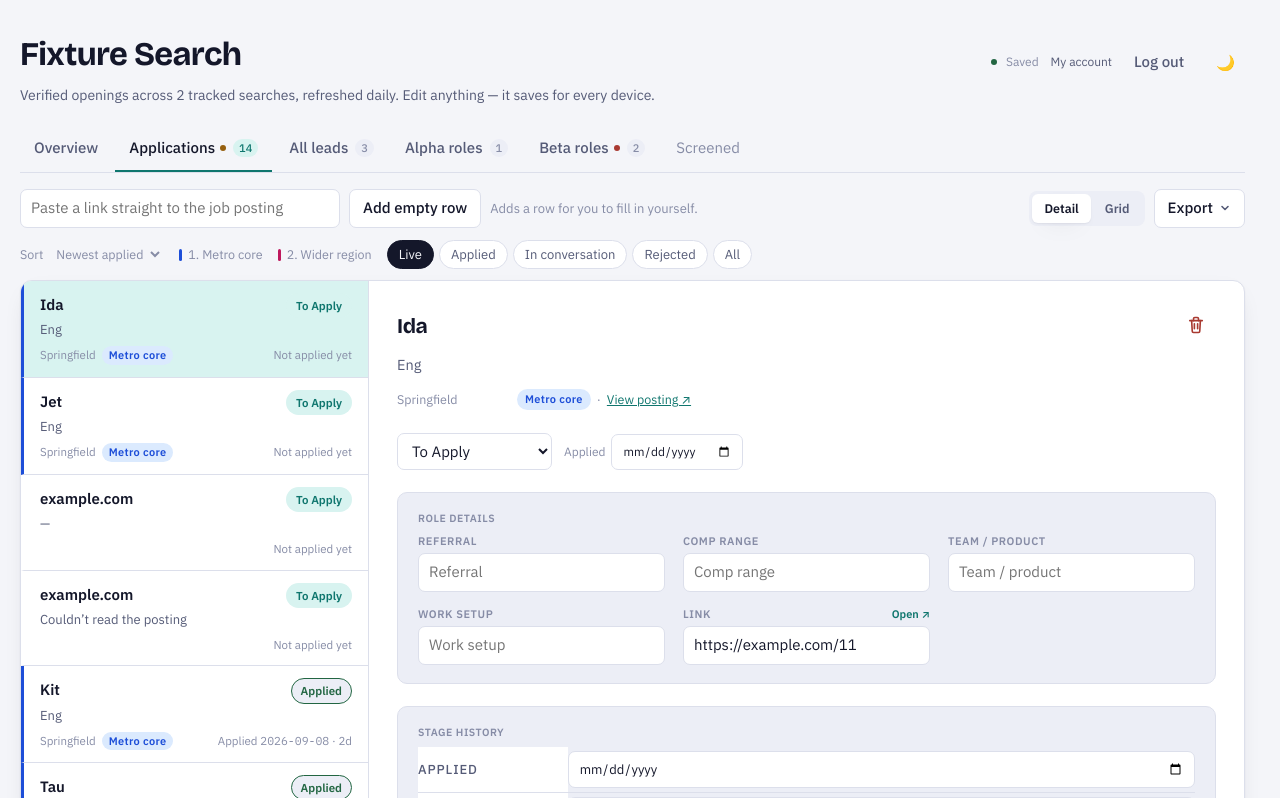
it: adding an application › selects the existing row instead of adding a pasted link twice
This screenshot has width=1280, height=798.
# Case-insensitive, and otherwise exact: the mistake a one-box form invites.
In the field named "Link to a job posting": coordinates (180, 208) [20,189,340,228], type "HTTPS://example.com/11"
Then press Enter
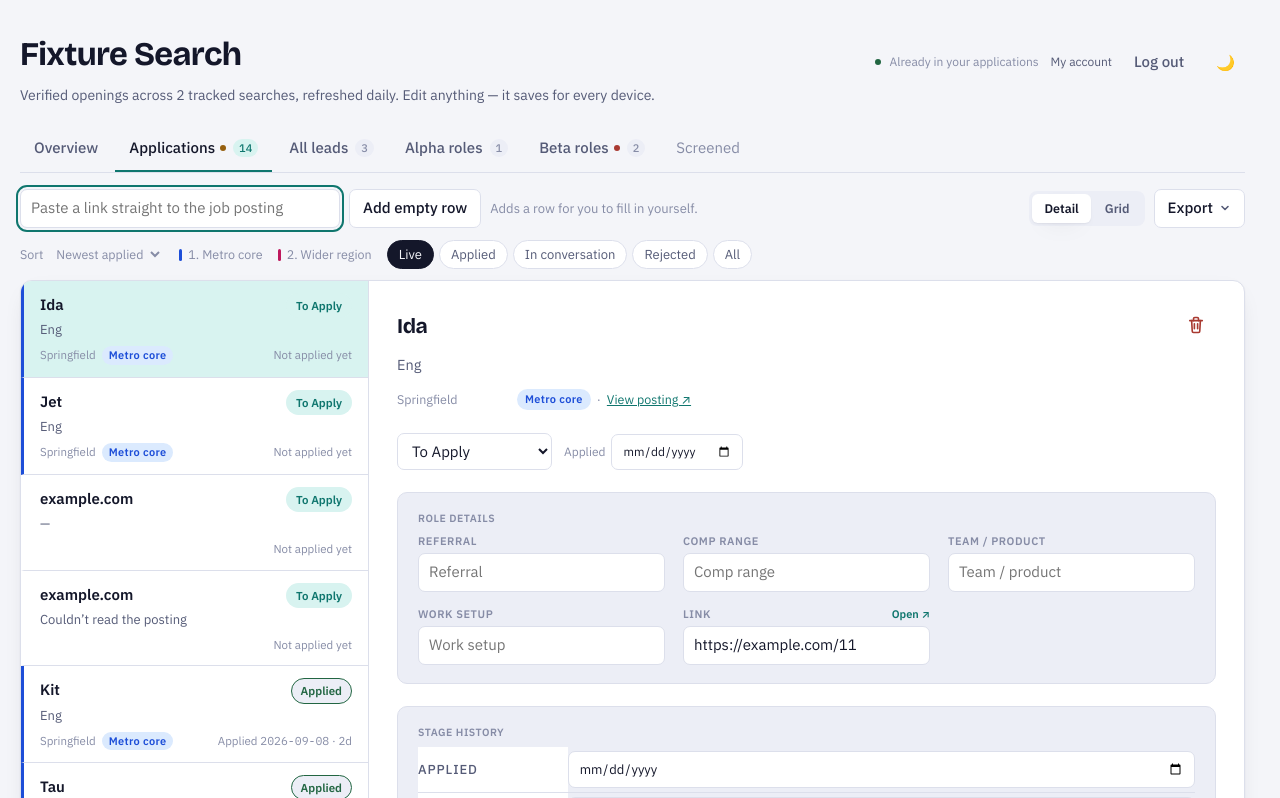
Expected: the field named "Company" holds "Ida", [389,307,1166,346]
Now the message reads "Already in your applications", box [890,54,1039,69]
